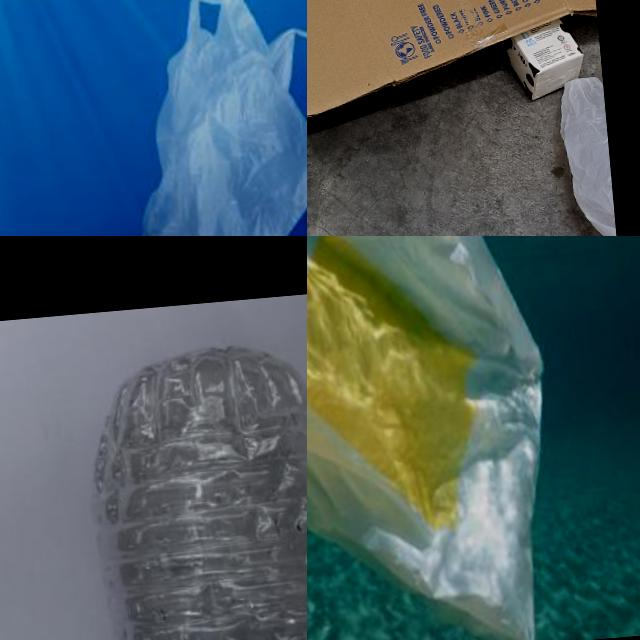caixinha: (504, 18, 586, 103)
garrafa plástica: (79, 337, 307, 640)
papelão: (307, 0, 603, 123)
sacola plástica: (307, 236, 567, 640), (114, 0, 307, 236), (558, 76, 618, 236)
